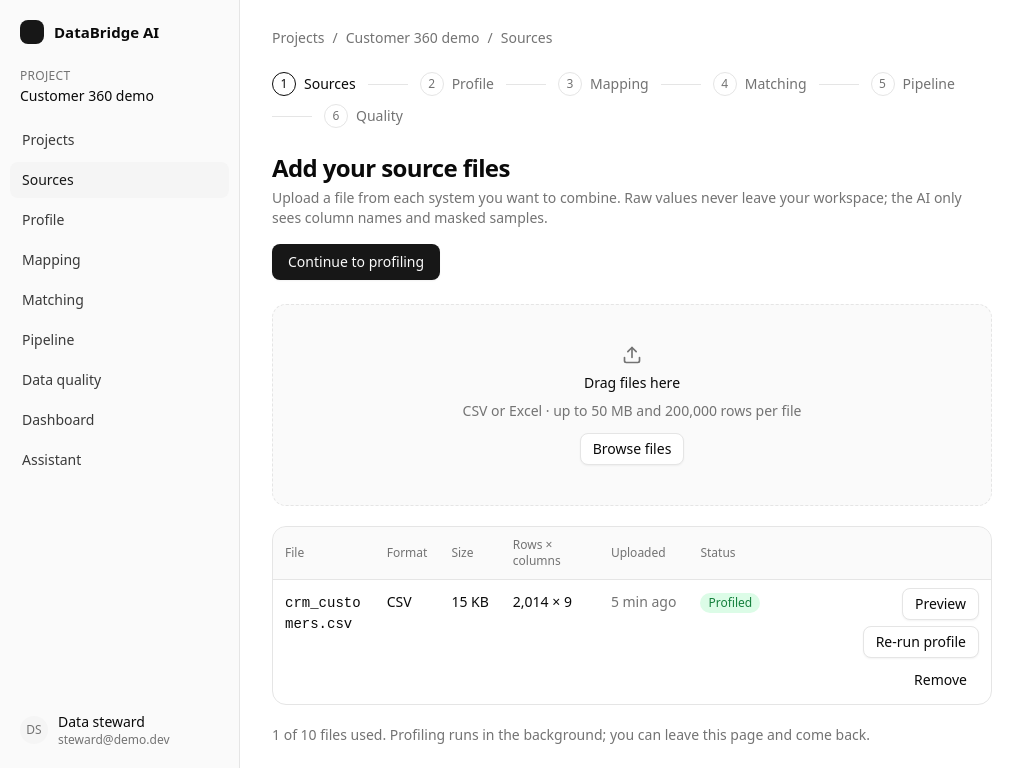
sources page › previews the first rows in a dialog
This screenshot has width=1024, height=768.
Click the button with aria-label "Preview crm_customers.csv" at (941, 604), box [902,588,979,620]
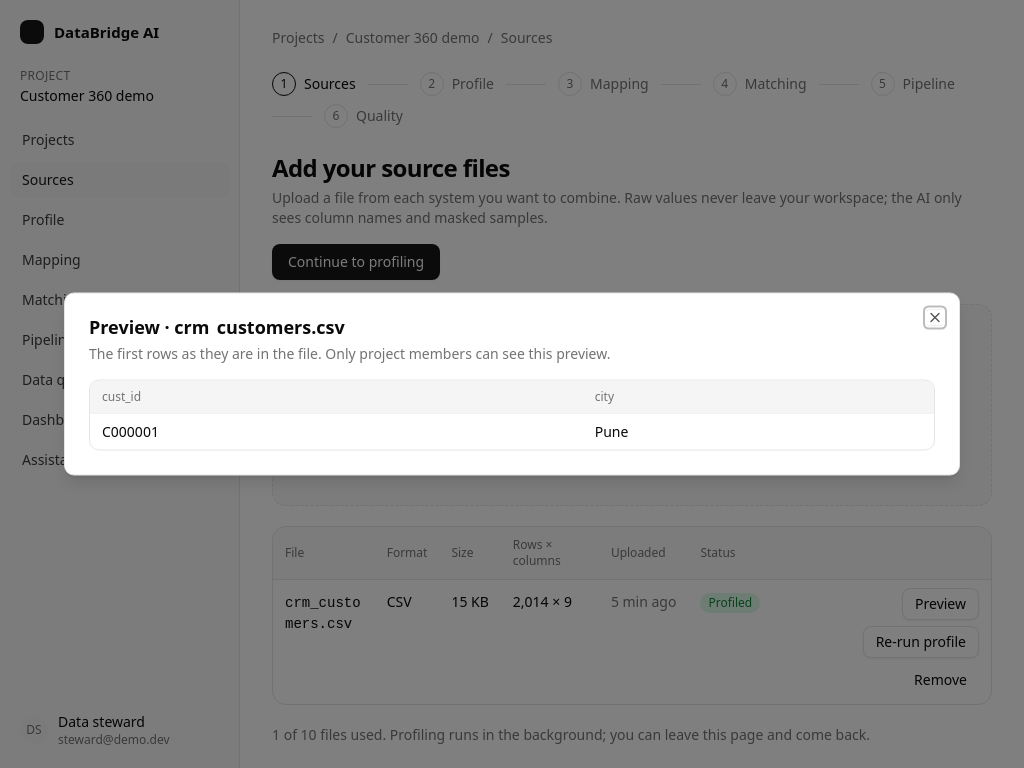
Expected: the column heading "cust_id" is shown, [90,380,583,413]
Expected: the cell "Pune" is shown, [583,413,934,450]
Press Escape
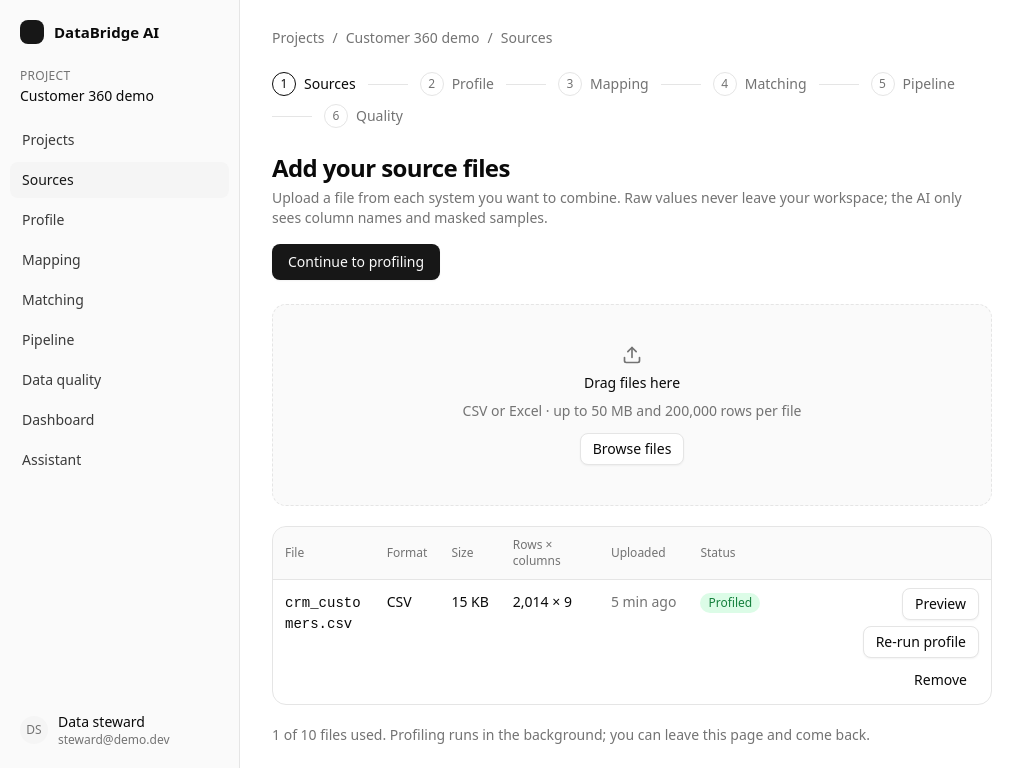
Expected: the dialog is gone
